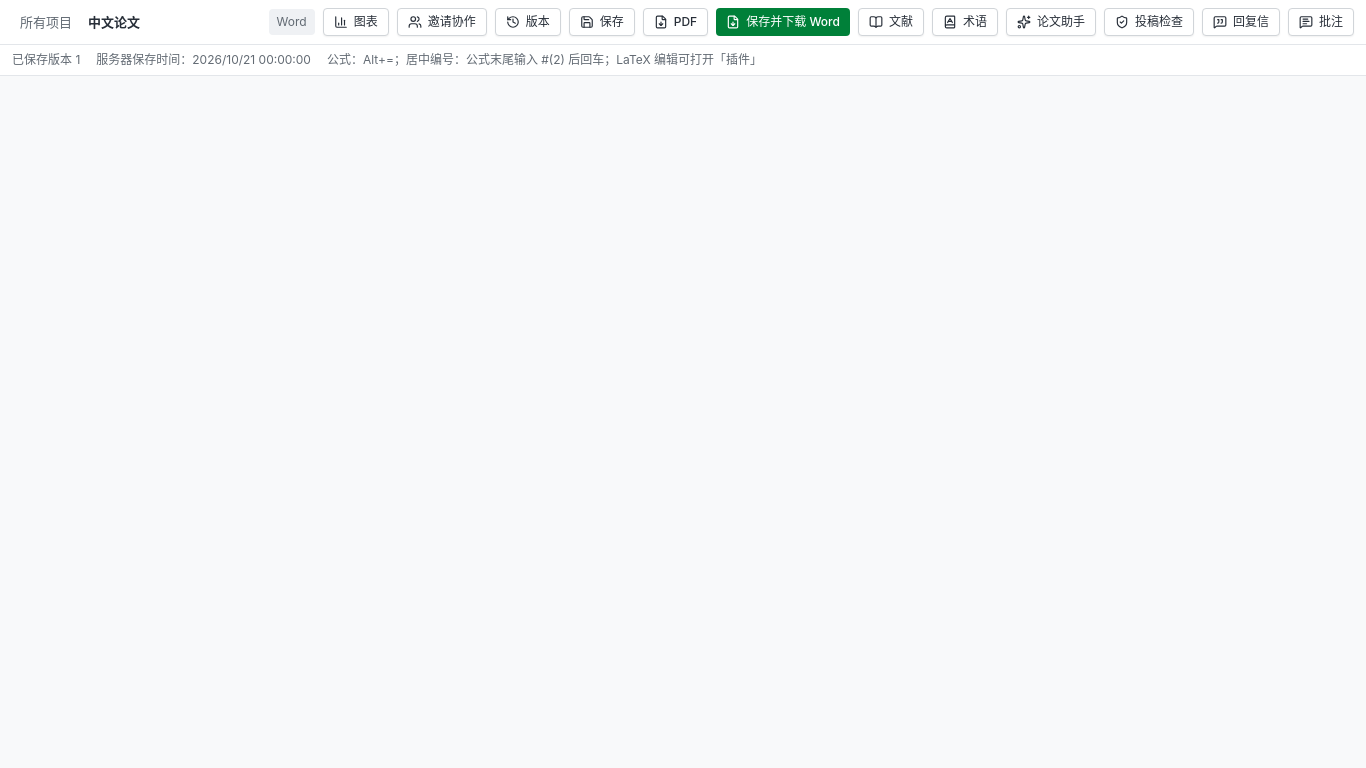
Scenario: Word 文献面板「按出现顺序重排引用」（P1-0-B） › 按钮仅在 Word 文献面板渲染，未保存修改时先确认；取消则不调用 API
Later steps or results of the test are not shown.
Click the button "文献".
click(891, 22)  # box [858,8,924,36]
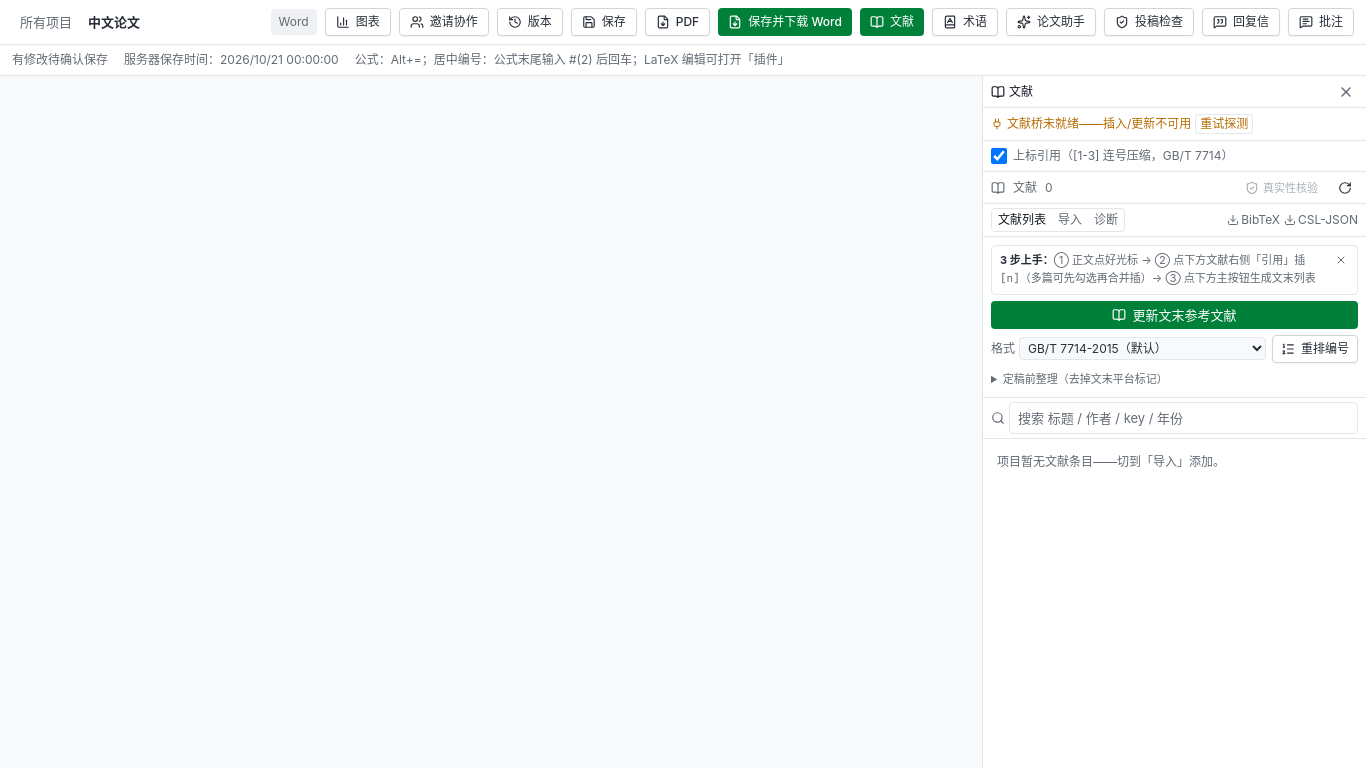
expect the button with test id "library-renumber-citations" is shown: met, box [1272,335,1358,363]
